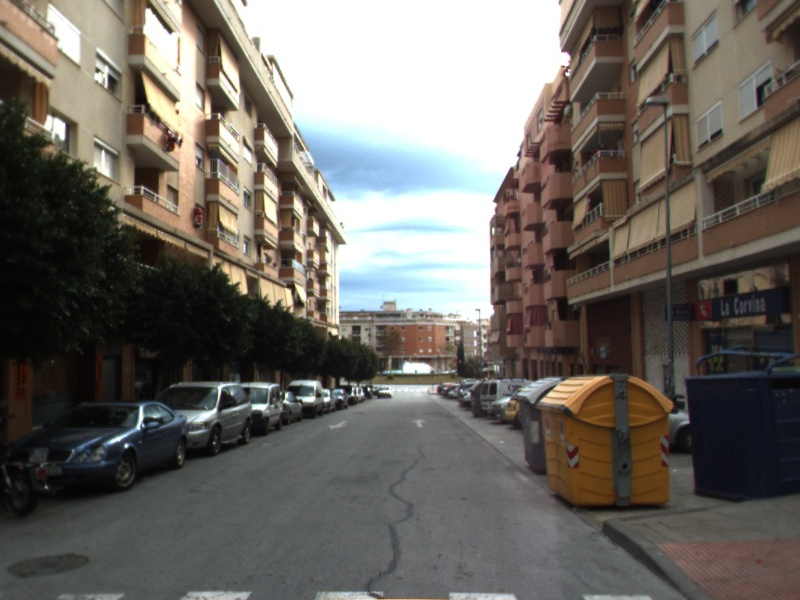STRAIGHT: (409, 417, 429, 430)
